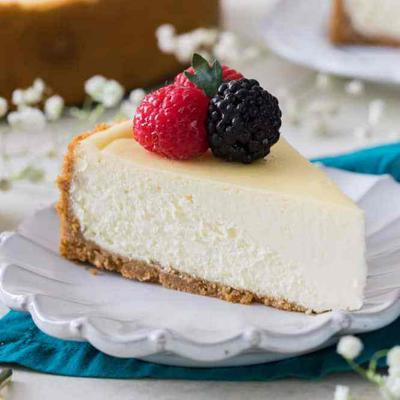cake: (56, 93, 372, 323)
